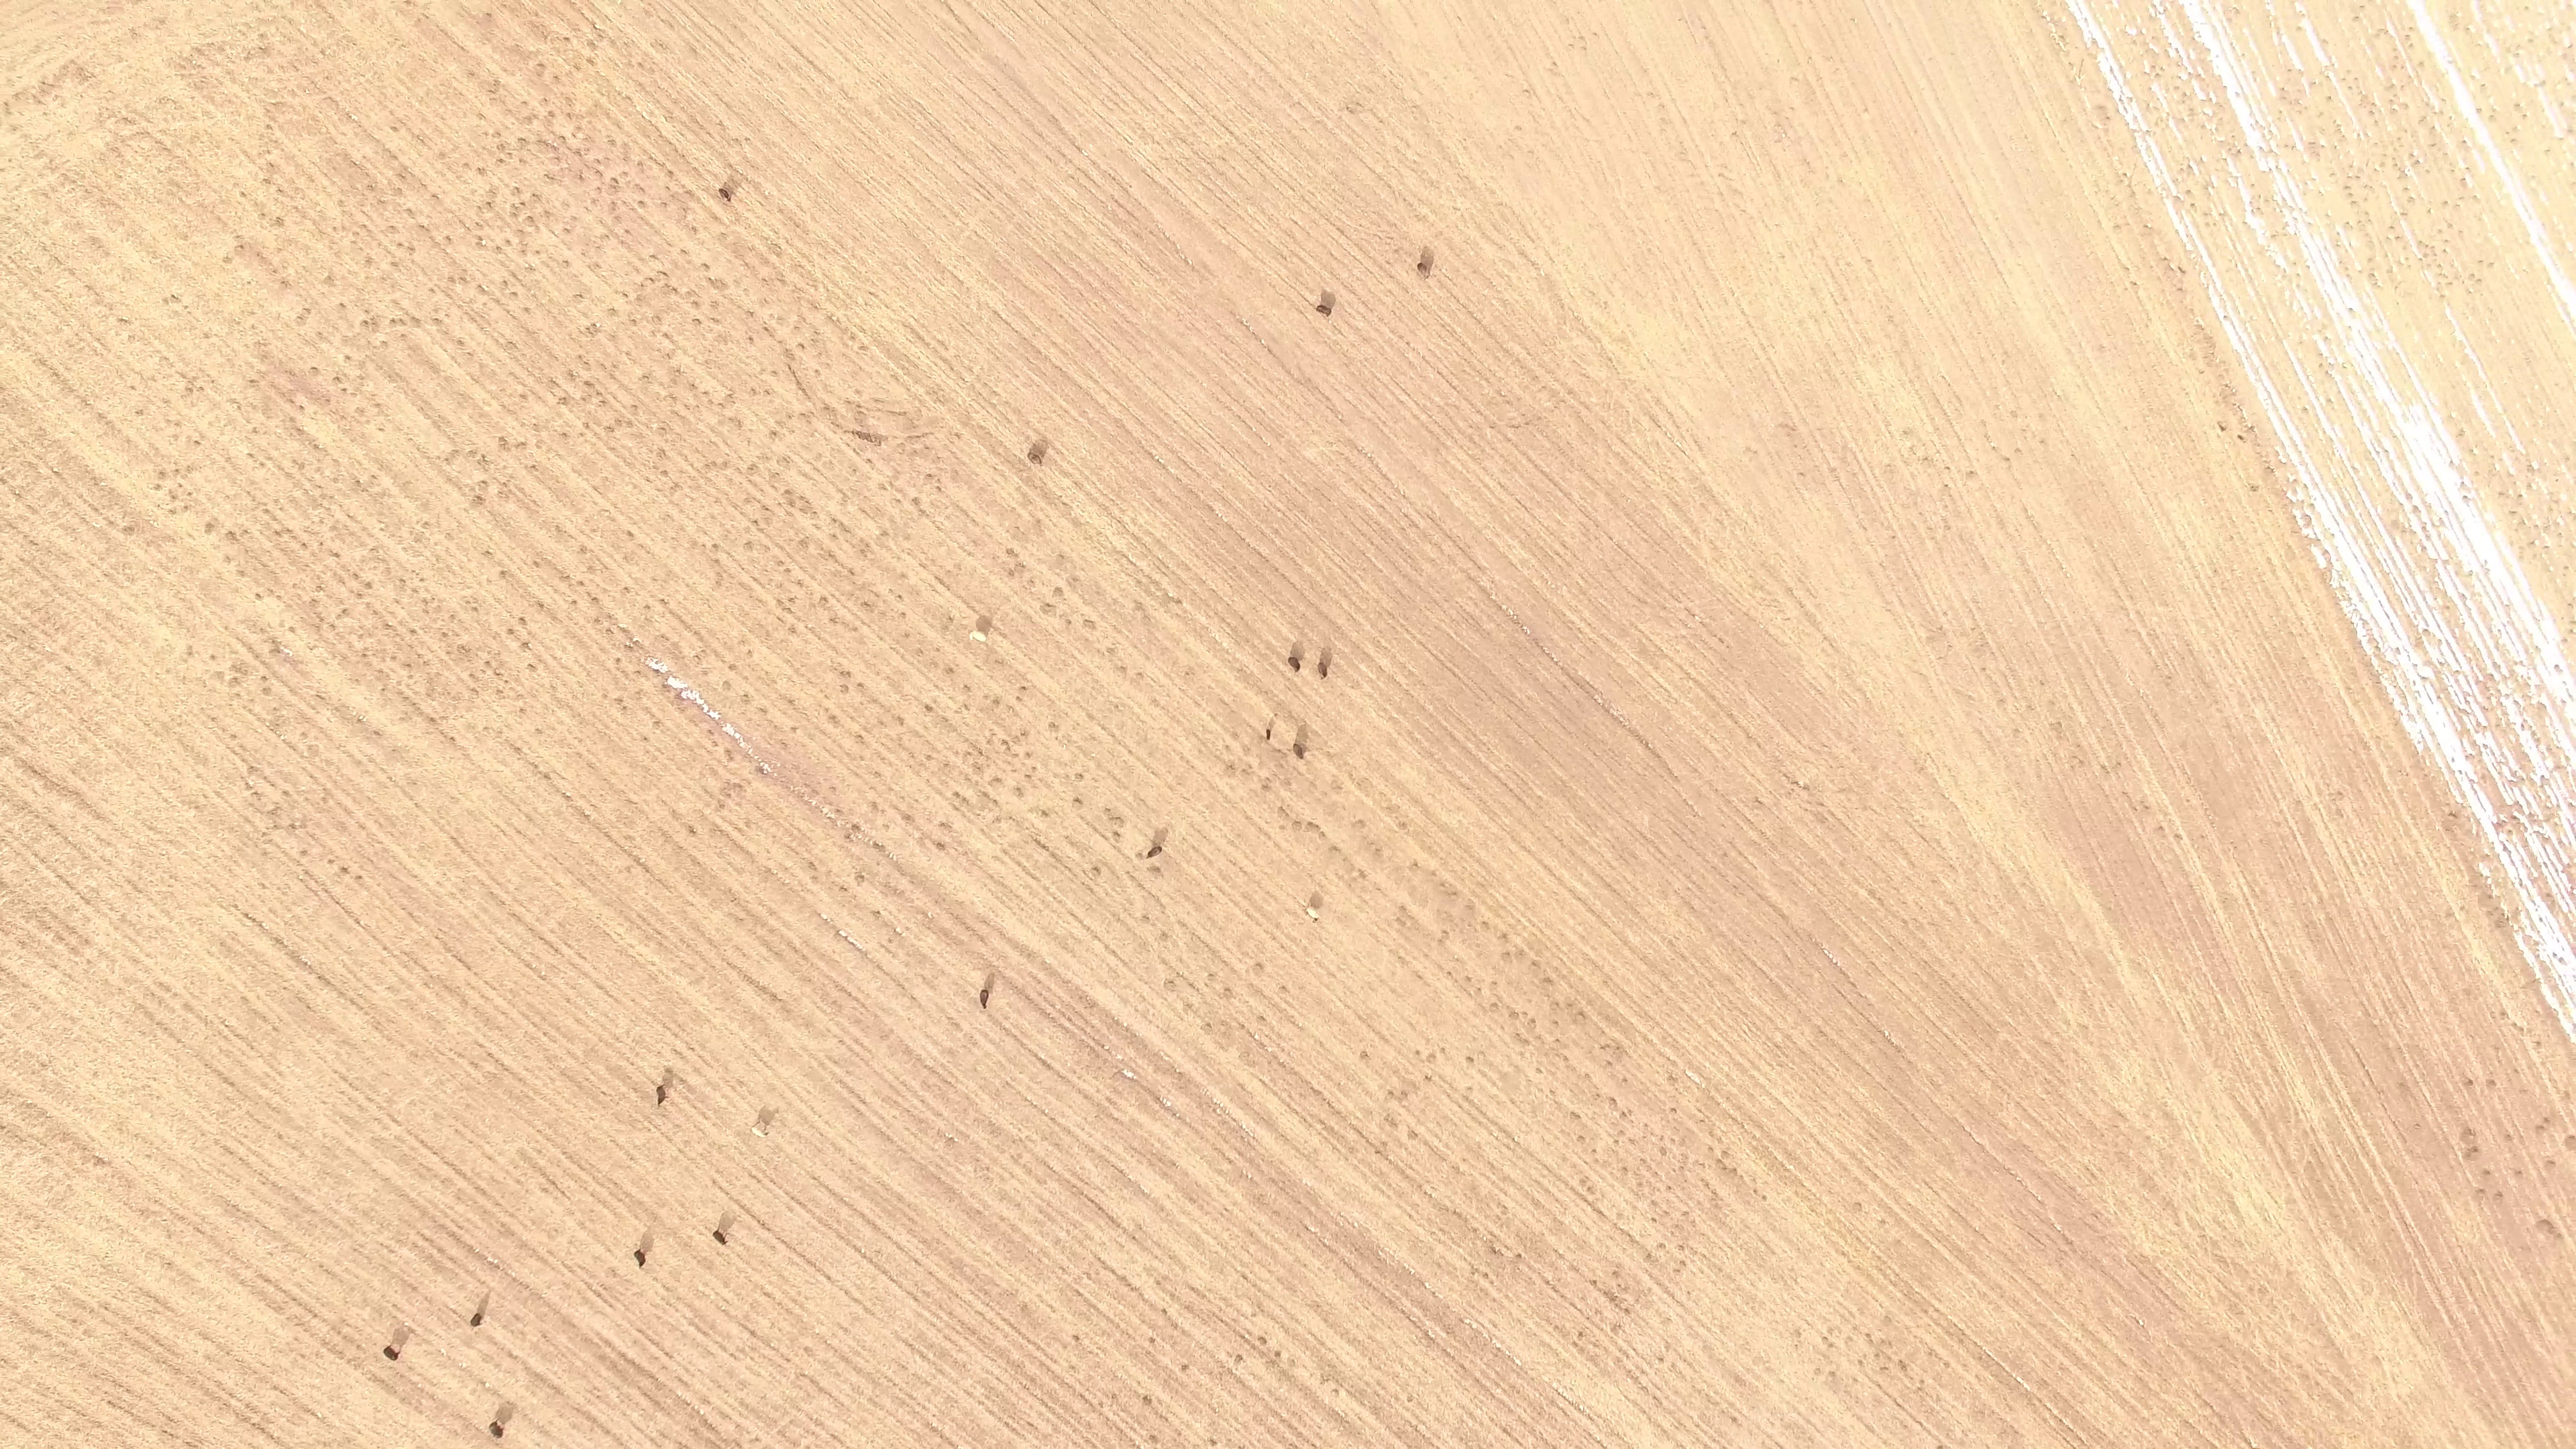sheep: (650, 1085, 674, 1108), (486, 1418, 509, 1442), (1311, 301, 1339, 319), (631, 1246, 651, 1269), (710, 1226, 731, 1248), (749, 1120, 772, 1141), (1412, 260, 1436, 280), (380, 1343, 402, 1364), (1303, 904, 1324, 926), (715, 184, 737, 205), (1285, 652, 1305, 675), (1290, 740, 1307, 763), (1314, 659, 1332, 682), (966, 627, 989, 645), (975, 987, 993, 1010), (467, 1311, 486, 1330), (1144, 841, 1165, 861), (1024, 449, 1044, 468), (1263, 726, 1274, 743)
unknown: (755, 1106, 777, 1128), (2524, 902, 2550, 922), (2506, 863, 2528, 881), (393, 1328, 411, 1348), (665, 675, 687, 691), (2537, 1216, 2557, 1233), (647, 659, 663, 677), (853, 427, 874, 443), (1140, 1393, 1155, 1408), (1256, 1334, 1270, 1348), (2538, 922, 2549, 938), (872, 841, 888, 852), (2491, 917, 2504, 931), (1149, 863, 1164, 876), (1304, 819, 1319, 831), (1071, 795, 1085, 806), (922, 702, 936, 714), (581, 378, 595, 390), (1148, 1432, 1161, 1445), (1271, 1348, 1284, 1360), (94, 1155, 106, 1167), (1091, 863, 1104, 876), (933, 839, 945, 851), (849, 821, 862, 833), (726, 661, 738, 672), (203, 520, 215, 532), (2410, 502, 2422, 515), (624, 1356, 638, 1368), (2463, 1077, 2476, 1089), (2493, 820, 2506, 830), (694, 696, 707, 707), (1729, 1415, 1740, 1426), (747, 1328, 758, 1339), (69, 1316, 80, 1326), (1606, 1293, 1619, 1305), (1513, 1251, 1525, 1262), (1728, 1165, 1740, 1177), (2469, 1143, 2481, 1156), (2486, 1077, 2498, 1088), (1466, 1055, 1477, 1065), (2481, 891, 2495, 902), (2542, 890, 2555, 901), (339, 865, 351, 876), (288, 821, 299, 833), (2507, 812, 2520, 823), (1038, 807, 1049, 818), (755, 764, 767, 776), (426, 714, 438, 725), (708, 710, 720, 720), (270, 645, 283, 656), (439, 629, 451, 640), (497, 568, 509, 578), (331, 549, 343, 561), (710, 541, 721, 551), (474, 493, 486, 504), (496, 434, 507, 444), (651, 1397, 661, 1408), (618, 1350, 628, 1360), (1147, 1336, 1158, 1346), (1863, 1330, 1873, 1340), (1575, 1328, 1586, 1340), (1159, 1306, 1169, 1316), (1543, 1278, 1553, 1288), (1589, 1277, 1600, 1289), (1644, 1251, 1654, 1261), (2477, 1186, 2488, 1196), (2481, 1168, 2493, 1178), (2463, 1149, 2474, 1161), (1372, 1146, 1383, 1157), (2536, 1122, 2546, 1132), (2541, 1116, 2552, 1126), (1572, 1112, 1582, 1122), (2534, 1038, 2544, 1049), (2561, 1020, 2571, 1030), (1203, 1020, 1214, 1030), (2544, 1009, 2555, 1020), (2498, 1009, 2508, 1019), (1490, 1000, 1500, 1010), (272, 935, 282, 946), (1499, 930, 1509, 941), (2534, 919, 2544, 929), (2548, 900, 2559, 910), (354, 872, 364, 882), (2479, 867, 2489, 877), (326, 857, 336, 867), (1037, 841, 1048, 851), (1110, 828, 1121, 839), (2442, 823, 2452, 834), (938, 820, 948, 830), (902, 814, 914, 824), (2525, 810, 2536, 821), (952, 789, 962, 799), (992, 775, 1003, 785), (246, 763, 256, 773), (26, 763, 37, 773), (511, 744, 522, 754), (1642, 739, 1652, 749), (733, 731, 743, 741), (372, 728, 382, 739), (2473, 720, 2484, 730), (895, 714, 906, 724), (701, 703, 711, 713), (260, 685, 270, 695), (1018, 683, 1028, 693), (841, 683, 851, 694), (855, 680, 865, 690), (659, 663, 670, 674), (483, 658, 493, 669), (2412, 639, 2422, 650), (269, 637, 279, 647), (2566, 627, 2576, 637), (505, 626, 517, 637), (591, 616, 601, 626), (1042, 600, 1053, 610), (364, 579, 374, 590), (857, 546, 868, 557), (229, 533, 239, 543), (625, 529, 635, 539), (225, 528, 235, 538), (125, 524, 136, 534), (786, 498, 796, 508), (782, 487, 792, 497), (660, 468, 670, 478), (172, 466, 182, 476), (2235, 432, 2246, 443), (186, 386, 197, 396), (524, 213, 534, 223), (1124, 1070, 1135, 1080), (315, 973, 327, 983), (1181, 1362, 1191, 1372), (1656, 1354, 1666, 1364), (1826, 1340, 1836, 1350), (1071, 1332, 1081, 1343), (1489, 1246, 1499, 1256), (2554, 1231, 2564, 1241), (1584, 1185, 1594, 1195), (548, 1178, 558, 1188), (1714, 1157, 1725, 1167), (2567, 1132, 2576, 1143), (2464, 1128, 2475, 1138), (226, 1079, 237, 1089), (1413, 1048, 1423, 1058), (2568, 1034, 2576, 1044), (1528, 1016, 1538, 1026), (1540, 975, 1550, 985), (249, 915, 259, 926), (241, 910, 252, 920), (2532, 895, 2542, 905), (857, 872, 867, 882), (452, 839, 462, 849), (2451, 812, 2461, 822), (870, 802, 880, 812), (979, 789, 989, 799), (674, 690, 684, 700), (659, 681, 669, 692), (843, 668, 853, 678), (359, 651, 369, 661), (619, 626, 629, 636), (537, 601, 547, 611), (910, 496, 920, 506), (2403, 490, 2413, 500), (353, 477, 363, 487), (52, 468, 62, 478), (2218, 424, 2229, 434), (454, 337, 465, 347), (1934, 1442, 1946, 1449), (2517, 888, 2527, 898), (2478, 773, 2488, 783), (2553, 762, 2563, 772), (946, 665, 956, 675), (626, 643, 636, 653), (247, 376, 257, 386), (1, 1122, 7, 1132), (403, 1, 413, 7), (2571, 932, 2576, 943)
